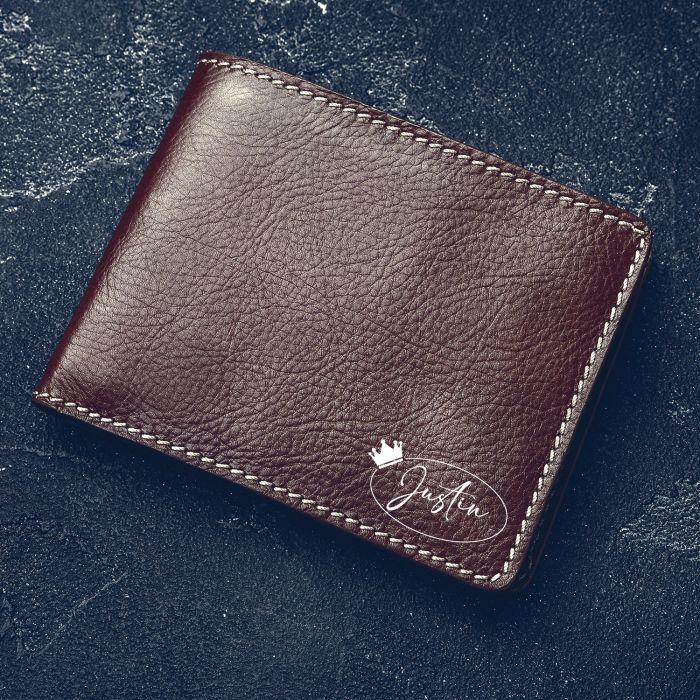Wallet: (38, 52, 646, 588)
